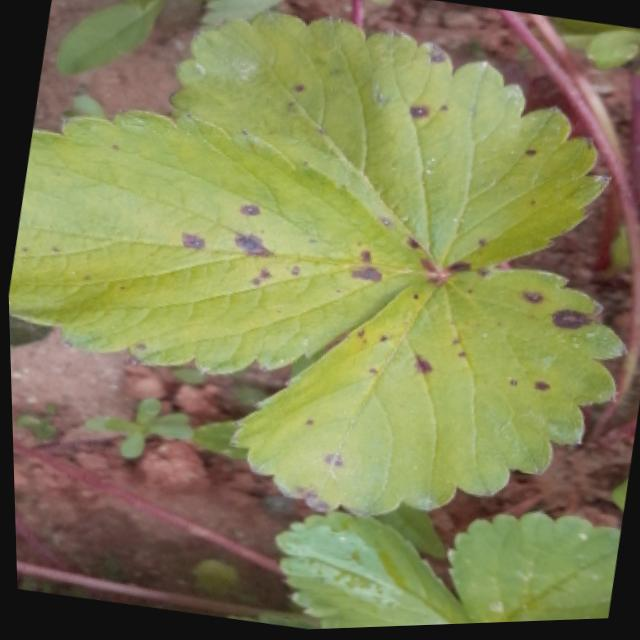Leaf Spot: (169, 10, 611, 275), (7, 105, 427, 379), (226, 271, 627, 523)
